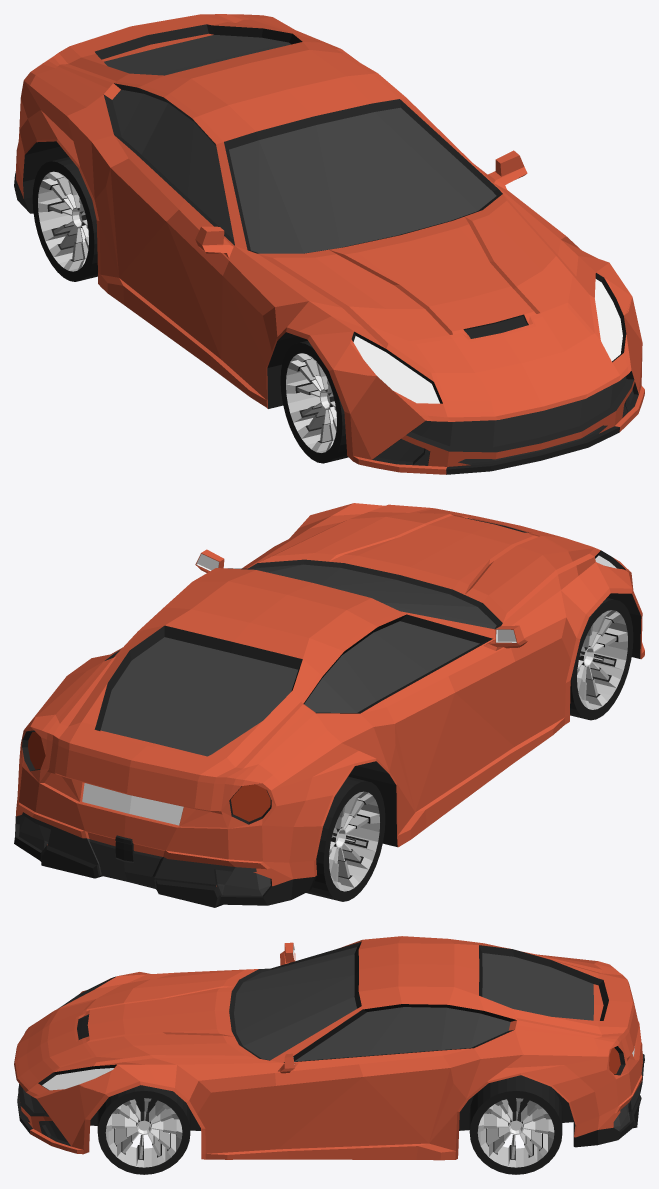
File: ferrarif12berlinetta.fbx
3 views of the same model, one above another, from view 1: azimuth 30°, elevation 25°; view 2: azimuth 150°, elevation 25°; view 3: azimuth 270°, elevation 25° (orthographic). The views are drawn at different scales.
Visible parts, largest first — view 1: RedBody, BackRight, FrontRight; view 2: RedBody, BackRight, FrontRight; view 3: RedBody, BackLeft, FrontLeft.
Boxes of the visible parts, <box> form: RedBody: <box>14,14,644,474</box>; BackRight: <box>32,157,97,281</box>; FrontRight: <box>280,340,348,463</box>; RedBody: <box>14,503,644,907</box>; BackRight: <box>306,776,385,901</box>; FrontRight: <box>570,598,633,720</box>; RedBody: <box>14,936,644,1160</box>; BackLeft: <box>469,1075,562,1174</box>; FrontLeft: <box>97,1085,190,1174</box>.
Size of the model in its own units: 2.05 by 4.63 by 1.28.
